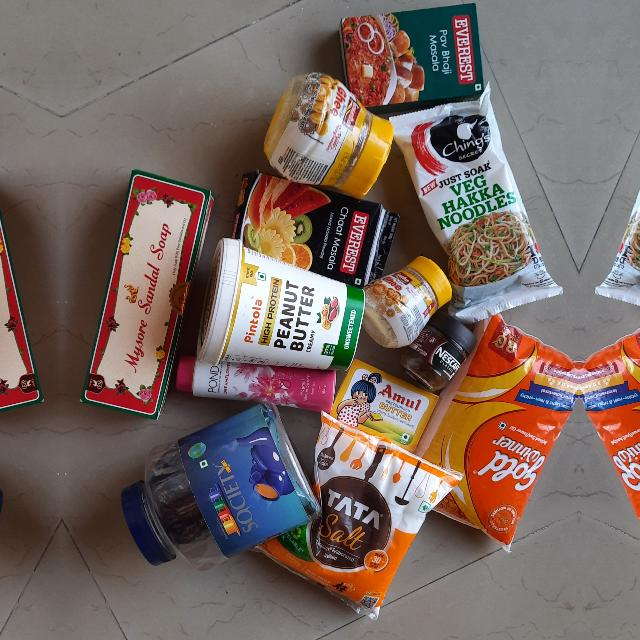Amul Butter: (335, 356, 433, 452)
Chings Secret Veg Hakka Noodles 140 g Pouch: (389, 106, 556, 312), (599, 106, 640, 312)
Everest Chaat Masala 50 g: (239, 169, 391, 285)
Everest Pav Bhaji Masala 100 g: (336, 9, 484, 106)
Gold Oil: (414, 319, 578, 549), (578, 319, 640, 549)
Govardhan Pure cow Ghee -1kg-: (262, 75, 388, 195)
Govardhan Pure cow Ghee -200ml-: (364, 262, 446, 338)
Mysore Sandal Soap 150 g -Pack of 3-: (82, 169, 204, 417), (0, 169, 40, 417)
Nescafe Classic Instant Coffee 24 g: (407, 316, 473, 380)
Pintola High Protein Peanut Butter-510 gm-: (210, 238, 358, 374)
Society Leaf Tea 250g Jar: (120, 410, 310, 564)
Tata Salt Vacuum Evaporated Iodised Salt 1 kg Pouch: (274, 408, 452, 608)
